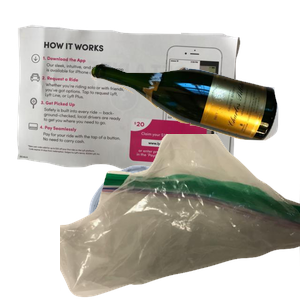glass: (88, 60, 300, 193)
paper: (14, 22, 247, 191)
plastic: (86, 163, 282, 300)
trash: (60, 134, 300, 300)
